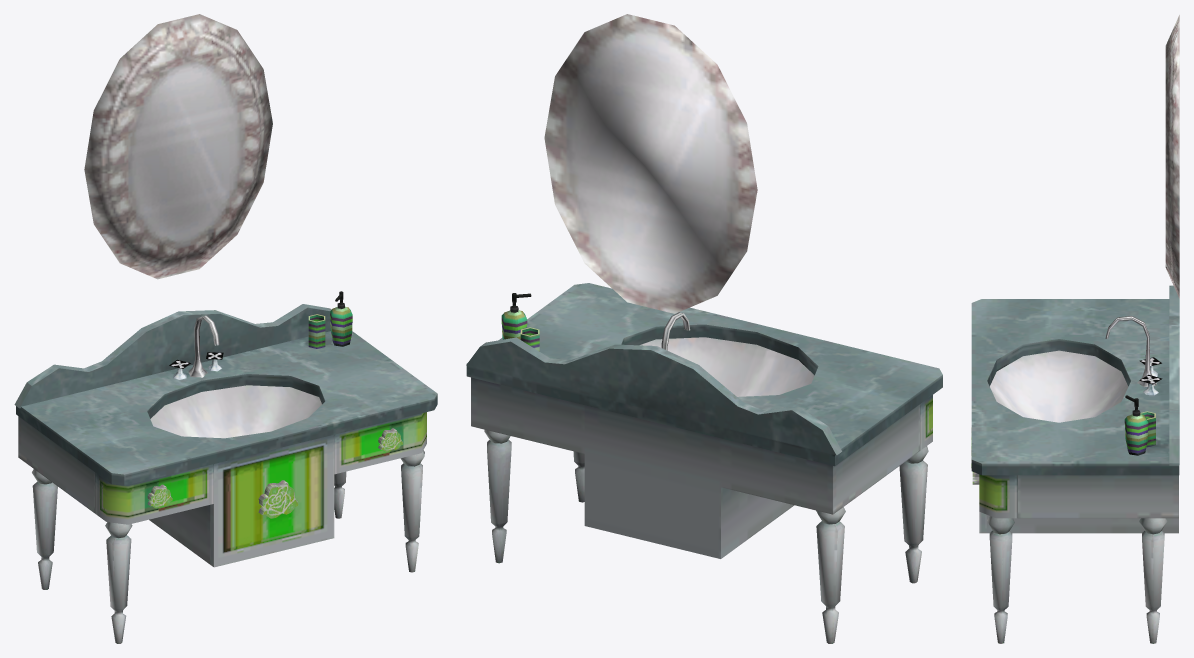
Rendered from furni_0200623_03.FBX.
3 renders of one model, left to right at view 1: azimuth 30°, elevation 25°; view 2: azimuth 150°, elevation 25°; view 3: azimuth 270°, elevation 25°, orthographic. The views are drawn at different scales.
Visible parts, largest first — view 1: furni_0200623_03; view 2: furni_0200623_03; view 3: furni_0200623_03.
Boxes of the visible parts, x1,y1,x2,y2 form: furni_0200623_03: (14,14,437,643); furni_0200623_03: (466,14,942,643); furni_0200623_03: (971,15,1179,643).
Size of the model in its own units: 152 by 233 by 80.91.
Materials: 1 (1 with a texture image).
